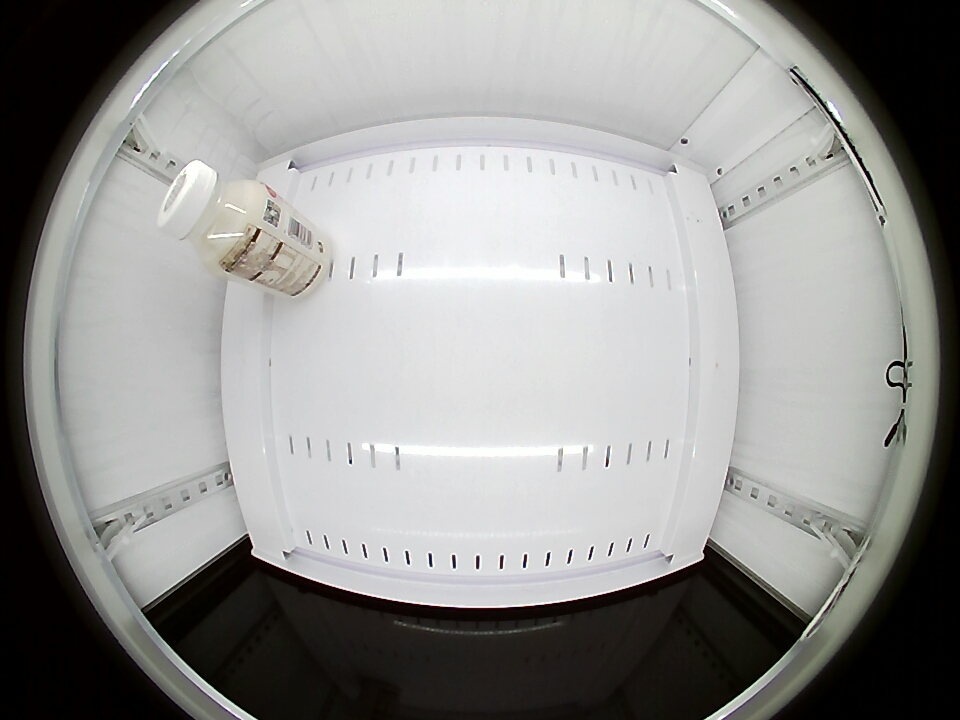weiweidounai: (158, 159, 267, 270)
